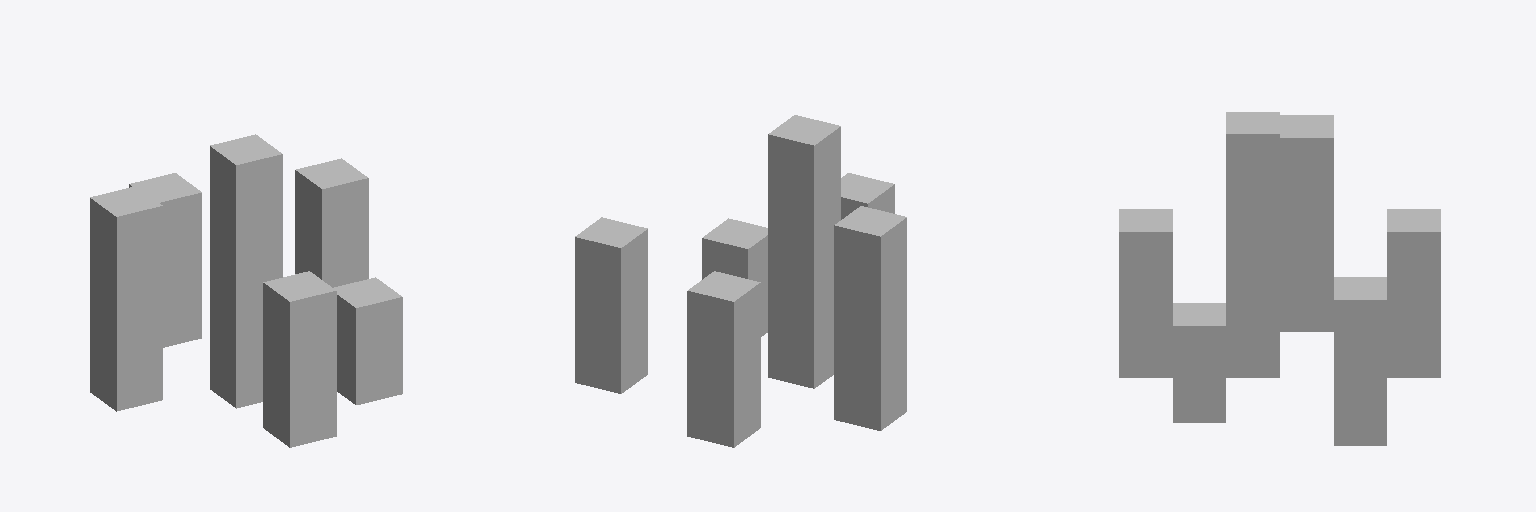
The model's file is nightGrass1-0.obj.
3 renders of one model, left to right at view 1: azimuth 30°, elevation 25°; view 2: azimuth 150°, elevation 25°; view 3: azimuth 270°, elevation 25°, orthographic.
Visible parts, largest first — view 1: object 1; view 2: object 1; view 3: object 1.
Part boxes in pixels (x1,y1,x2,y2): object 1: (90, 134, 402, 447); object 1: (575, 115, 906, 447); object 1: (1119, 112, 1440, 445).
Bounding box in the file's own units: 0.6 × 0.5 × 0.6.